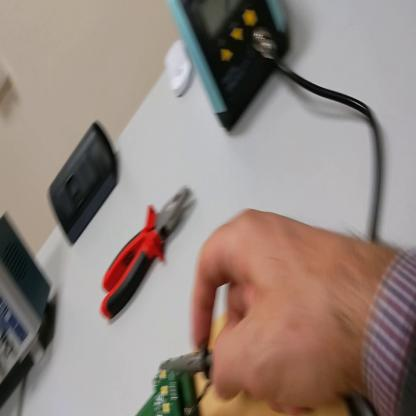hand: (191, 205, 370, 415)
low voltage board: (133, 357, 200, 415)
oscilloscope: (2, 207, 55, 387)
oscilloscope probe tip: (157, 347, 214, 383)
pliers: (101, 184, 190, 323)
welder station: (168, 3, 293, 132)
working area: (184, 316, 353, 415)
